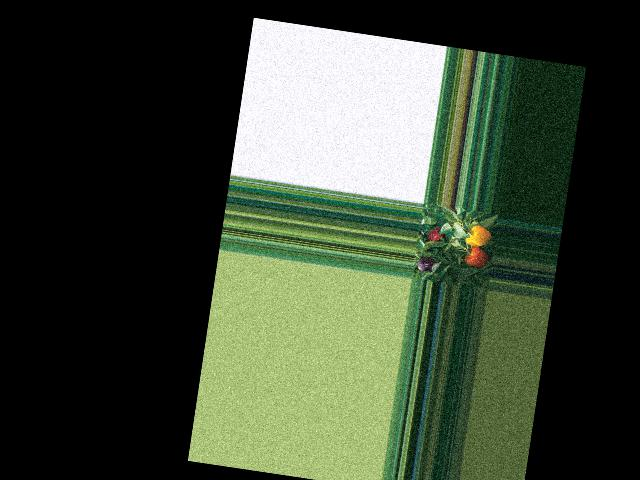bell_pepper: (463, 223, 491, 253)
